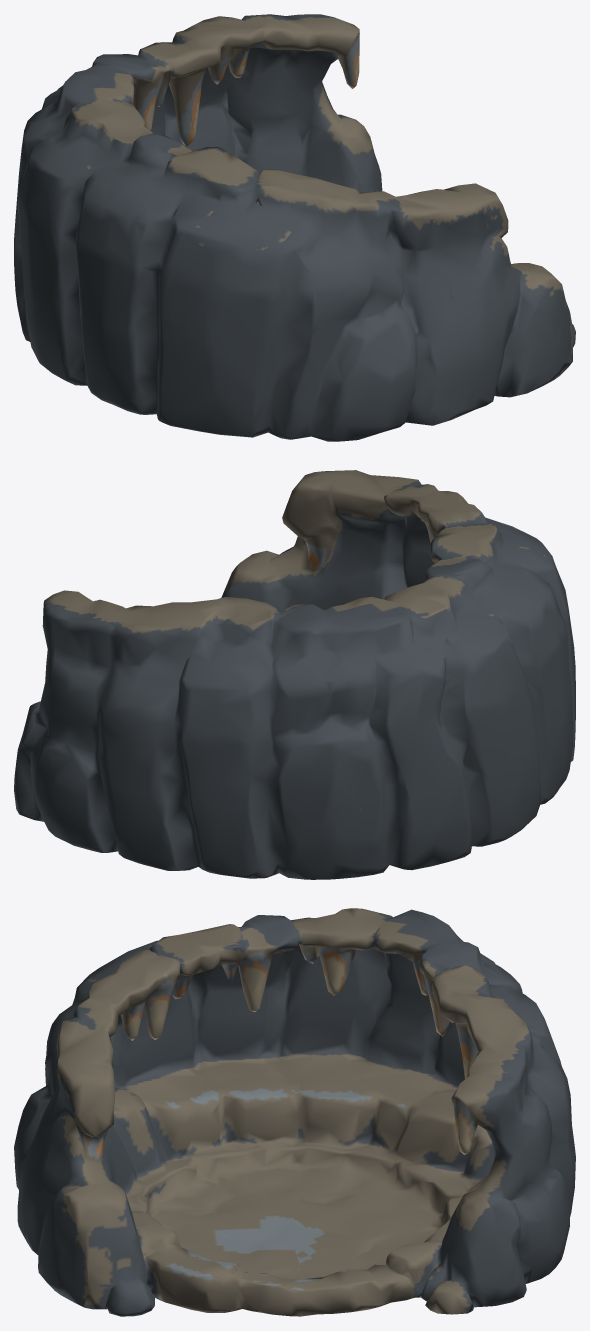
File: room-cave.glb
The picture shows the model from 3 angles, top to bottom: view 1: azimuth 30°, elevation 25°; view 2: azimuth 150°, elevation 25°; view 3: azimuth 270°, elevation 25°; orthographic projection. The views are drawn at different scales.
Visible parts, largest first — view 1: tripo_node_494d16f7-5fbd-4028-a323-38b6d95df9f9; view 2: tripo_node_494d16f7-5fbd-4028-a323-38b6d95df9f9; view 3: tripo_node_494d16f7-5fbd-4028-a323-38b6d95df9f9.
Part boxes in pixels (x1,y1,x2,y2): tripo_node_494d16f7-5fbd-4028-a323-38b6d95df9f9: (14, 14, 575, 441); tripo_node_494d16f7-5fbd-4028-a323-38b6d95df9f9: (14, 470, 575, 879); tripo_node_494d16f7-5fbd-4028-a323-38b6d95df9f9: (14, 908, 575, 1316).
Bounding box in the file's own units: 0.8872 × 0.455 × 1.
Materials: 1 (1 with a texture image).
